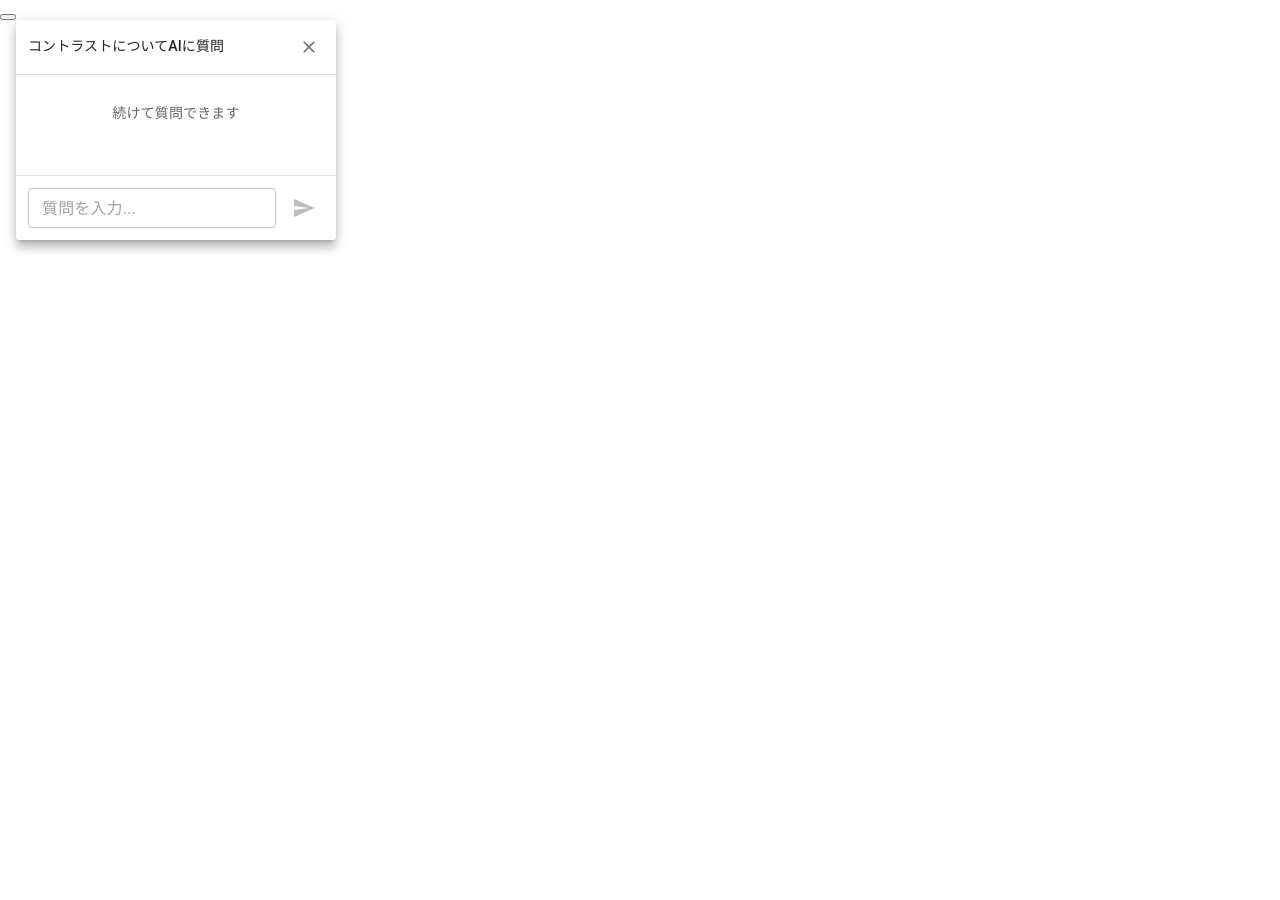
Test: AIChatPopover › 対話履歴表示 › should display chat history
The image size is (1280, 900).
// 質問を入力して送信
Type "テスト質問" into the field labelled "質問を入力..." at (152, 208), box [28,188,276,228]
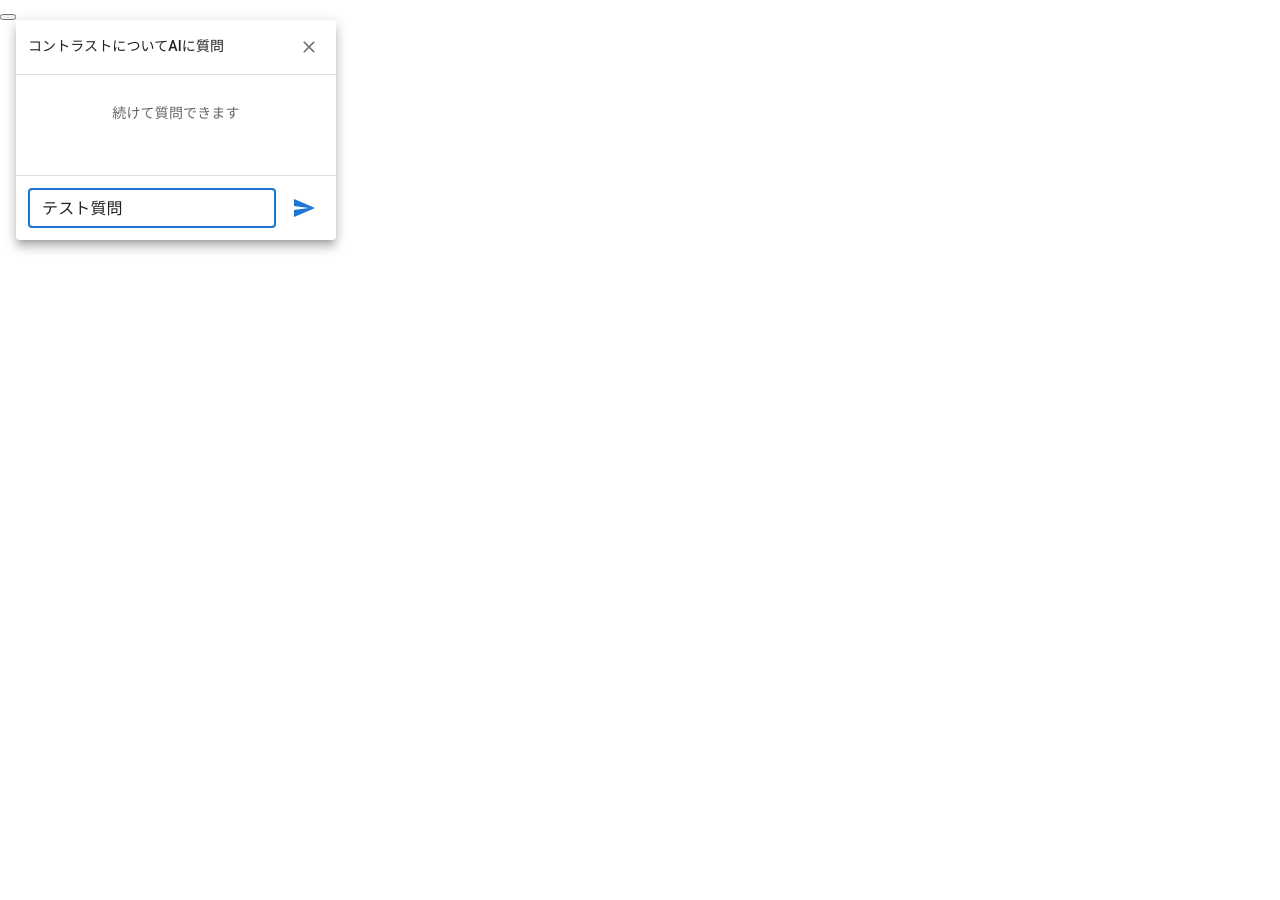
Click the button named "送信" at (304, 208), box [284,188,324,228]
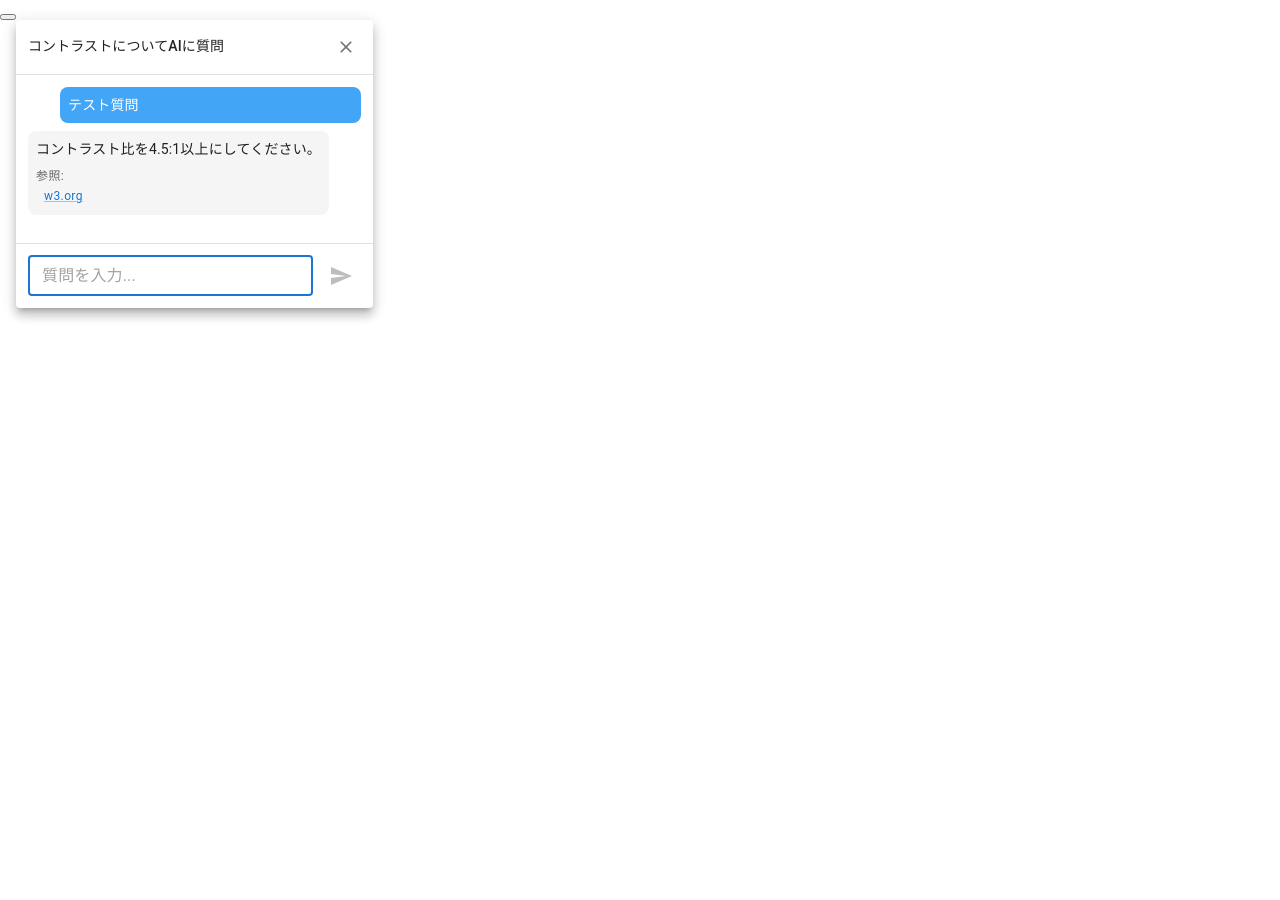
Now the text "コントラスト比を4.5:1以上にしてください。" is shown, box [36,139,321,159]
